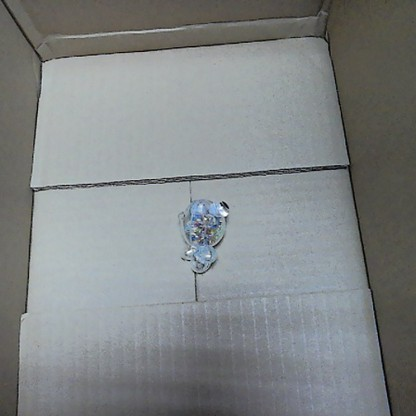whitefish: (174, 195, 232, 275)
